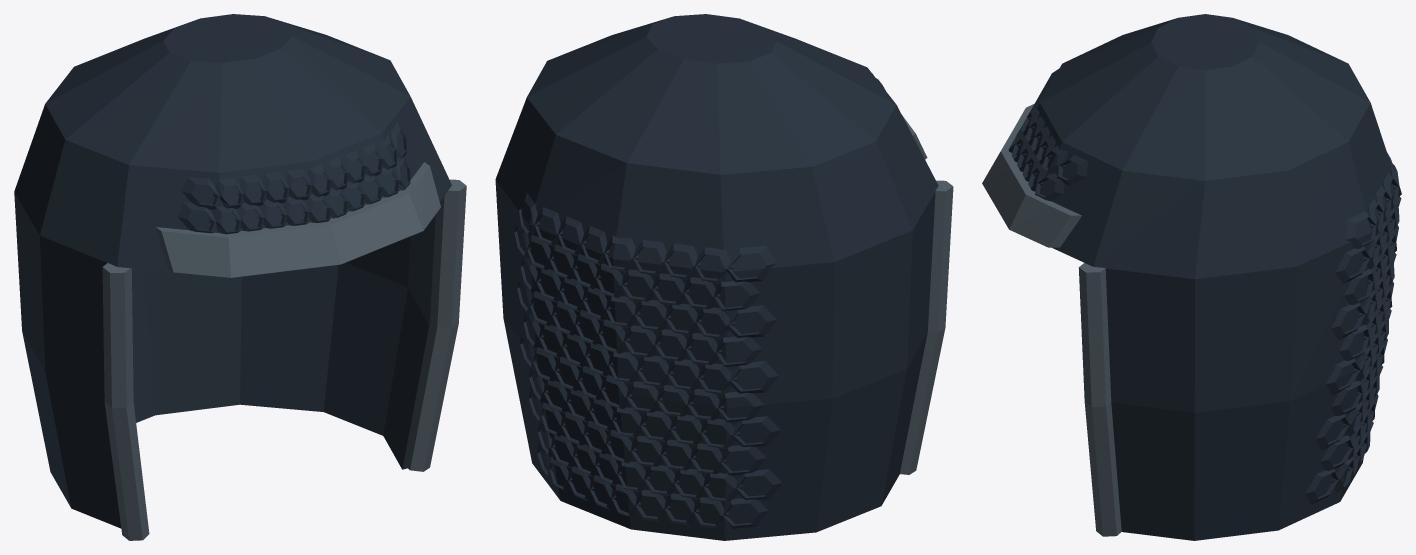
Rendered from ring_head-female.glb.
3 views of the same model, side by side, from view 1: azimuth 30°, elevation 25°; view 2: azimuth 150°, elevation 25°; view 3: azimuth 270°, elevation 25° (orthographic). The views are drawn at different scales.
Visible parts, largest first — view 1: ring joined crown and nape guard, Fitted brow binding, ring woven coverage on ring joined crown and nape guard, Bound face opening 1, Bound face opening -1; view 2: ring joined crown and nape guard, ring coif nape coverage, Bound face opening -1; view 3: ring joined crown and nape guard, ring coif nape coverage, Bound face opening 1, Fitted brow binding, ring woven coverage on ring joined crown and nape guard.
Boxes of the visible parts, x1=… form: ring joined crown and nape guard: x1=14, y1=14, x2=451, y2=528; Fitted brow binding: x1=156, y1=162, x2=440, y2=277; ring woven coverage on ring joined crown and nape guard: x1=178, y1=122, x2=410, y2=234; Bound face opening 1: x1=403, y1=179, x2=466, y2=471; Bound face opening -1: x1=102, y1=263, x2=149, y2=540; ring joined crown and nape guard: x1=495, y1=14, x2=938, y2=540; ring coif nape coverage: x1=514, y1=192, x2=781, y2=528; Bound face opening -1: x1=900, y1=180, x2=953, y2=474; ring joined crown and nape guard: x1=1016, y1=14, x2=1394, y2=540; ring coif nape coverage: x1=1305, y1=153, x2=1401, y2=504; Bound face opening 1: x1=1078, y1=263, x2=1121, y2=536; Fitted brow binding: x1=982, y1=104, x2=1081, y2=247; ring woven coverage on ring joined crown and nape guard: x1=1008, y1=69, x2=1088, y2=201.
Bounding box in the file's own units: 1.02 × 1.08 × 0.9688.
